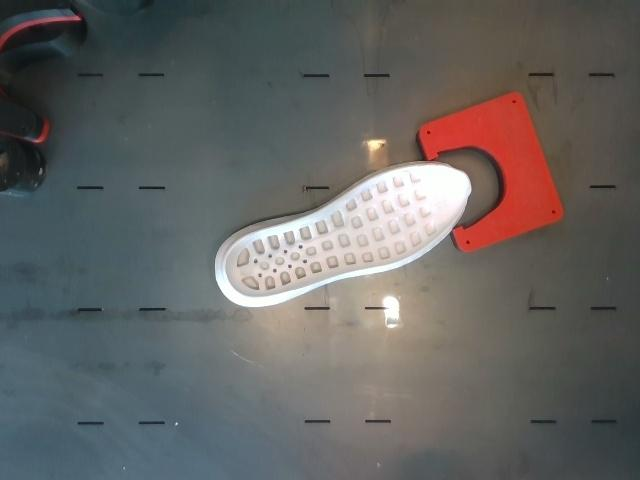shoes: (225, 165, 469, 298)
